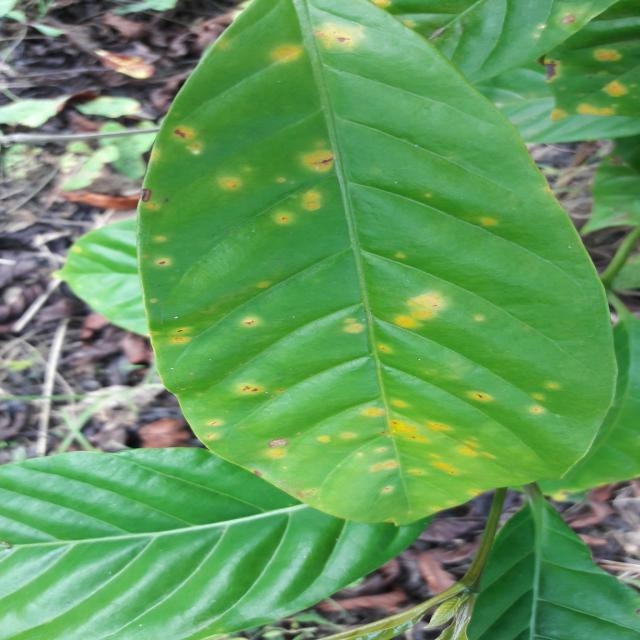Enfermedad-Roya: (137, 0, 640, 527)
